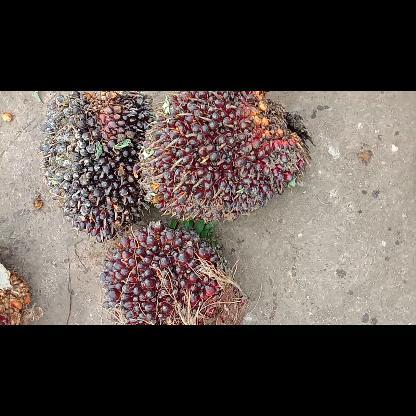Kurang masak: (139, 91, 313, 219), (100, 222, 248, 324)
TBS mentah: (39, 92, 151, 240)
